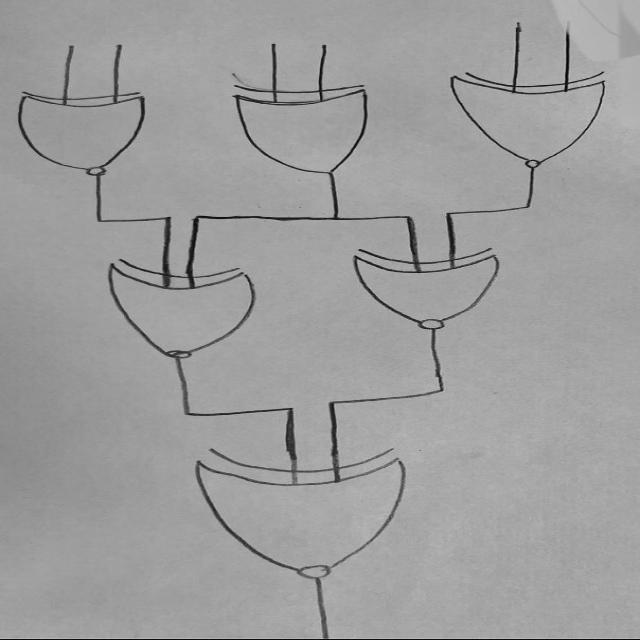XNOR: (180, 438, 454, 596), (82, 248, 290, 372), (336, 243, 555, 350), (437, 67, 622, 177), (2, 84, 180, 182)
XOR: (204, 68, 391, 184)
